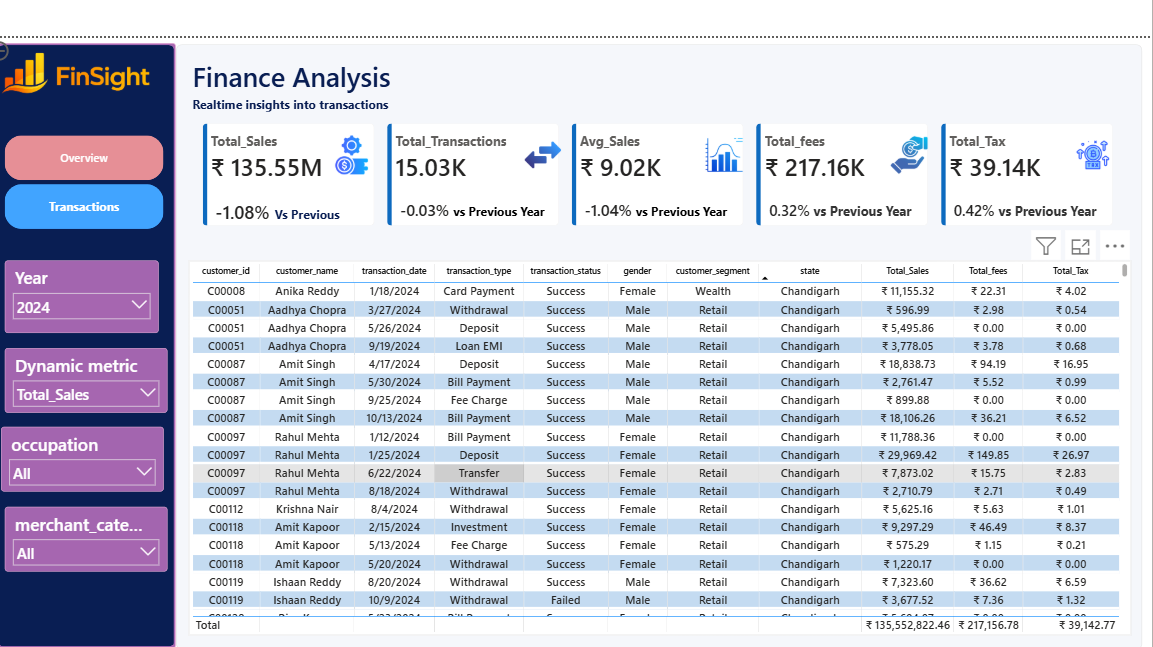

This screenshot's page, from the dashboard's own definition file:
{"tool":"powerbi","page":{"name":"Transactions","canvas":[1800,950],"ordinal":1},"visuals":[{"type":"shape","box":[15.4,7.7,277.9,935.9],"z":0},{"type":"shape","box":[293.3,9.6,1491.6,935.9],"z":1000},{"type":"image","box":[14.7,0,251.8,109.6],"z":2000},{"type":"cardVisual","fields":{"Data":["customers.Dashboard Title"]},"box":[312.6,19.3,422.6,106.1],"z":3000},{"type":"cardVisual","fields":{"Data":["measures (2).Total_Sales","measures (2).Total_Transactions","measures (2).Avg_Sales","measures (2).Total_fees","measures (2).Total_Tax"]},"box":[328,125.4,1420.2,170],"z":4000},{"type":"image","box":[524.9,150.5,79.1,59.8],"z":5000},{"type":"image","box":[820.1,150.5,79.1,59.8],"z":6000},{"type":"image","box":[1099.9,150.5,79.1,59.8],"z":7000},{"type":"image","box":[1385.5,150.5,79.1,59.8],"z":8000},{"type":"image","box":[1669.2,150.5,79.1,59.8],"z":9000},{"type":"tableEx","fields":{"Values":["customers.customer_id","customers.customer_name","finance_transactions.transaction_date","finance_transactions.transaction_type","finance_transactions.transaction_status","customers.gender","customers.customer_segment","customers.state","measures (2).Total_Sales","measures (2).Total_fees","measures (2).Total_Tax"]},"box":[312.6,343.5,1455,578.9],"z":10000},{"type":"actionButton","box":[0,0,100,40],"z":11000},{"type":"slicer","fields":{"Values":["calender table.Year"]},"box":[28.9,343.5,237.4,111.9],"z":12000},{"type":"slicer","fields":{"Values":["Dynamic metric.Dynamic metric"]},"box":[28.9,478.6,250.9,100.3],"z":13000},{"type":"slicer","fields":{"Values":["customers.occupation"]},"box":[23.2,600.1,250.9,100.3],"z":14000},{"type":"slicer","fields":{"Values":["finance_transactions.merchant_category"]},"box":[28.9,723.6,250.9,100.3],"z":15000},{"type":"pageNavigator","box":[28.9,150.5,245.1,144.7],"z":16000}]}

Visuals, with their boxes on the page's 1800x950 design canvas (x1, y1, x2, y2). These are canvas units, not pixel positions in the 1153x647 screenshot, which may show the page scaled, cropped or inside an application window:
shape: bbox(15, 8, 293, 944)
shape: bbox(293, 10, 1785, 946)
image: bbox(15, 0, 266, 110)
cardVisual - customers.Dashboard Title: bbox(313, 19, 735, 125)
cardVisual - measures (2).Total_Sales x measures (2).Total_Transactions: bbox(328, 125, 1748, 295)
image: bbox(525, 150, 604, 210)
image: bbox(820, 150, 899, 210)
image: bbox(1100, 150, 1179, 210)
image: bbox(1386, 150, 1465, 210)
image: bbox(1669, 150, 1748, 210)
tableEx - customers.customer_id x customers.customer_name: bbox(313, 344, 1768, 922)
actionButton: bbox(0, 0, 100, 40)
slicer - calender table.Year: bbox(29, 344, 266, 455)
slicer - Dynamic metric.Dynamic metric: bbox(29, 479, 280, 579)
slicer - customers.occupation: bbox(23, 600, 274, 700)
slicer - finance_transactions.merchant_category: bbox(29, 724, 280, 824)
pageNavigator: bbox(29, 150, 274, 295)
